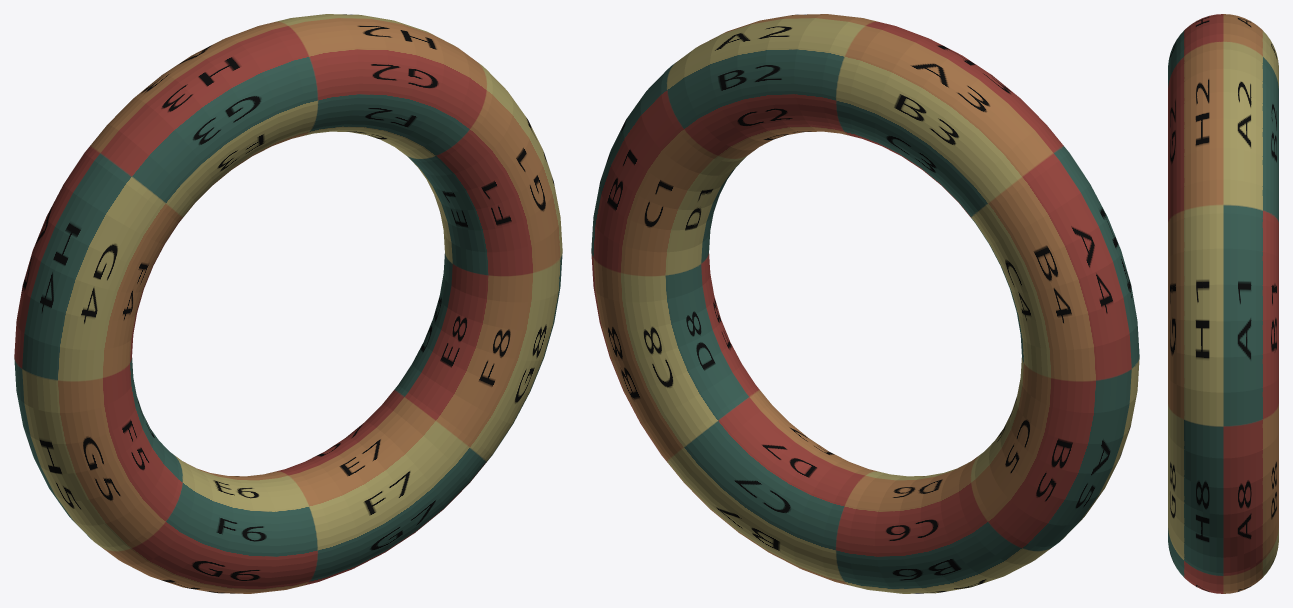
Rendered from texture_torus_R23_r15.glb.
The picture shows the model from 3 angles, left to right: view 1: azimuth 30°, elevation 25°; view 2: azimuth 150°, elevation 25°; view 3: azimuth 270°, elevation 25°; orthographic projection. The views are drawn at different scales.
Parts seen in each view (by area): view 1: world; view 2: world; view 3: world.
Part boxes in pixels (left/top/right/bottom): world: left=14, top=14, right=562, bottom=593; world: left=591, top=14, right=1139, bottom=593; world: left=1168, top=14, right=1278, bottom=593.
Size of the model in its own units: 31.33 by 31.27 by 5.99.
1 material, 1 textured.
